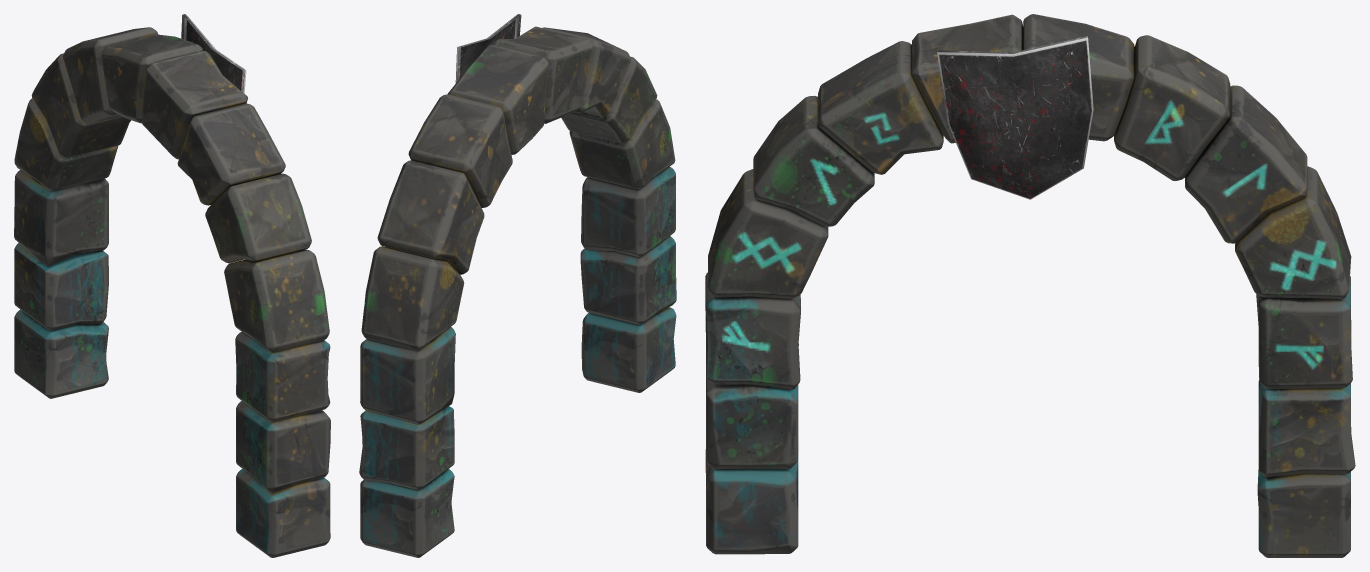
File: magic_portal_off.glb
The picture shows the model from 3 angles, left to right: view 1: azimuth 30°, elevation 25°; view 2: azimuth 150°, elevation 25°; view 3: azimuth 270°, elevation 25°; orthographic projection. The views are drawn at different scales.
Parts seen in each view (by area): view 1: Object_8, Object_3; view 2: Object_8, Object_3; view 3: Object_8, Object_3.
Boxes of the visible parts, x1,y1,x2,y2 form: Object_8: (14,27,330,557); Object_3: (181,14,246,93); Object_8: (359,26,676,557); Object_3: (455,14,521,83); Object_8: (705,14,1355,557); Object_3: (937,36,1093,199).
Size of the model in its own units: 3.24 by 15.48 by 17.32.
2 materials, 2 textured.
